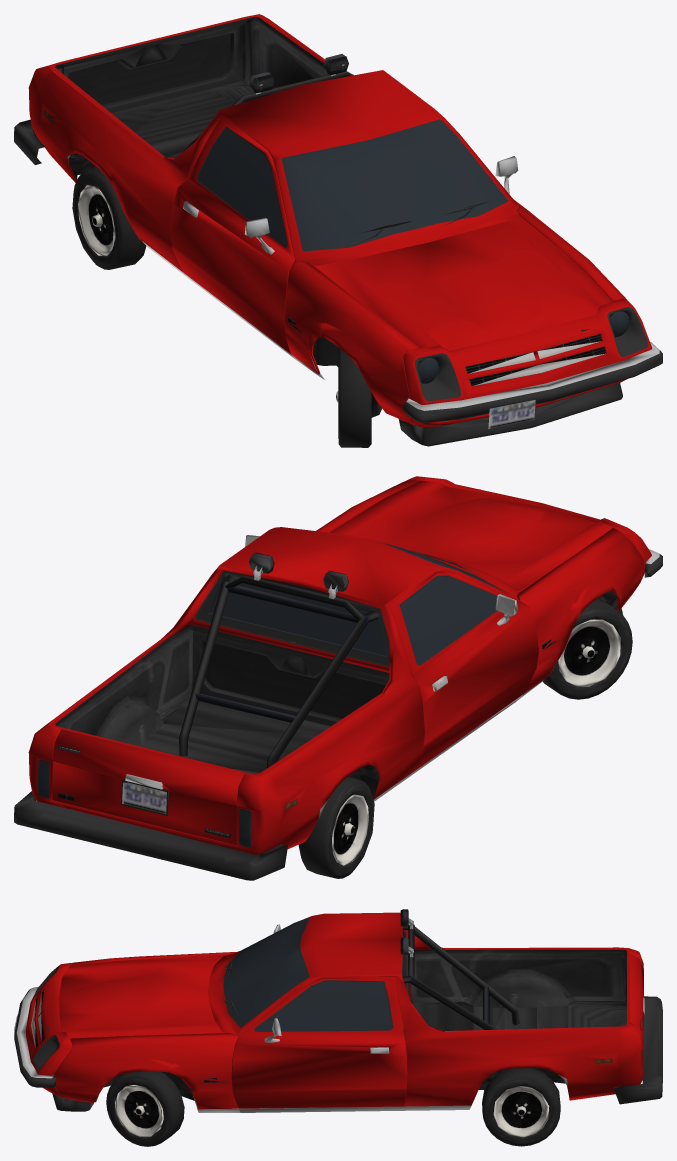
File: car_pickup_old.gltf
3 renders of one model, top to bottom at view 1: azimuth 30°, elevation 25°; view 2: azimuth 150°, elevation 25°; view 3: azimuth 270°, elevation 25°, orthographic. The views are drawn at different scales.
Parts seen in each view (by area): view 1: car_pickup_old; view 2: car_pickup_old; view 3: car_pickup_old.
Boxes of the visible parts, x1=… form: car_pickup_old: x1=14, y1=14, x2=662, y2=447; car_pickup_old: x1=14, y1=476, x2=662, y2=880; car_pickup_old: x1=14, y1=909, x2=662, y2=1146.
Size of the model in its own units: 1.96 by 1.44 by 4.89.
1 material, 1 textured.
